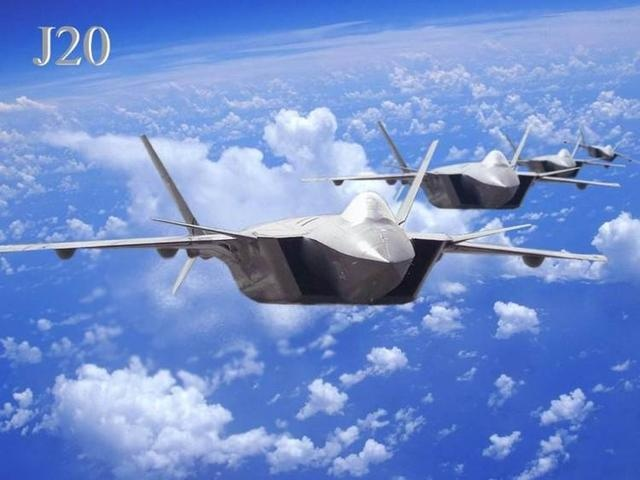airplane: (4, 122, 609, 308), (302, 119, 624, 205), (454, 125, 629, 176), (561, 128, 640, 167)
